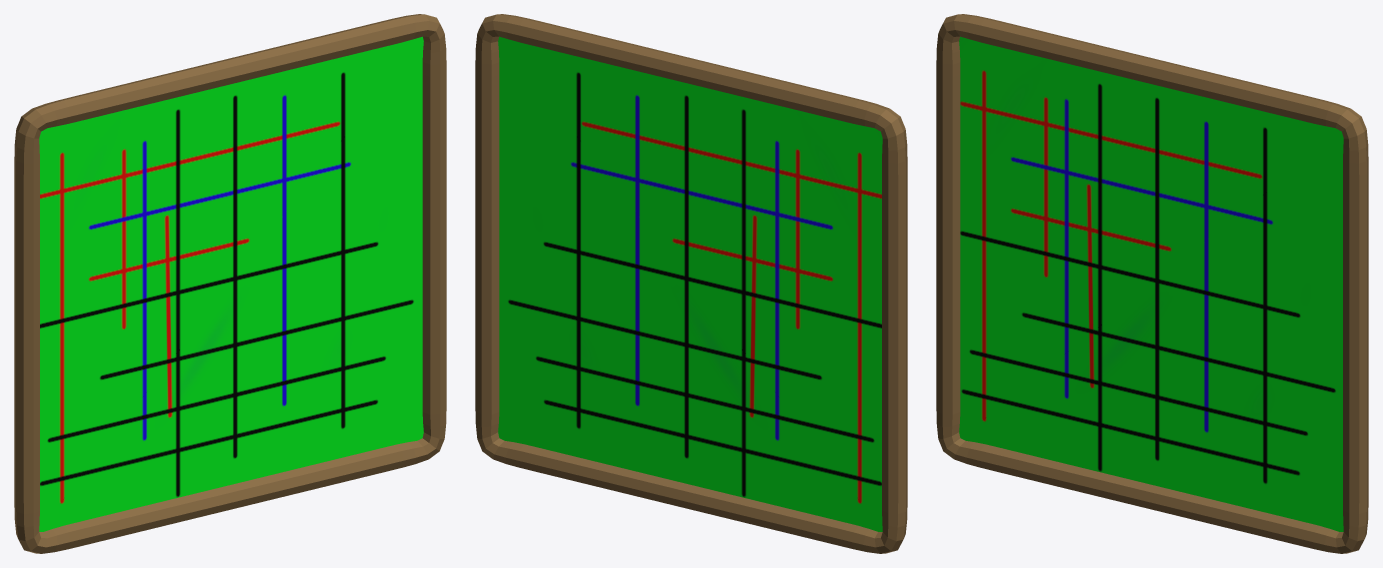
Rendered from Album_type1.fbx.
The picture shows the model from 3 angles, left to right: view 1: azimuth 30°, elevation 25°; view 2: azimuth 150°, elevation 25°; view 3: azimuth 330°, elevation 25°; orthographic projection.
Visible parts, largest first — view 1: Plane.001; view 2: Plane.001; view 3: Plane.001.
Boxes of the visible parts, x1=… form: Plane.001: x1=14, y1=14, x2=446, y2=553; Plane.001: x1=475, y1=14, x2=907, y2=553; Plane.001: x1=936, y1=14, x2=1368, y2=553.
Size of the model in its own units: 539 by 539 by 28.05.
